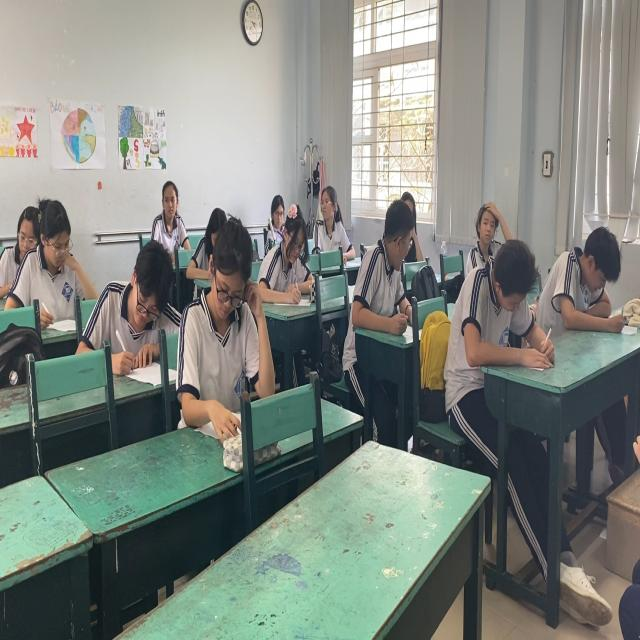cheating: (356, 202, 426, 320), (316, 172, 356, 262), (469, 200, 505, 262)
not_cheating: (191, 204, 268, 396), (97, 237, 175, 368), (14, 196, 92, 317), (550, 227, 624, 342), (473, 241, 535, 348), (270, 210, 319, 300), (154, 161, 183, 237), (266, 197, 288, 230)
